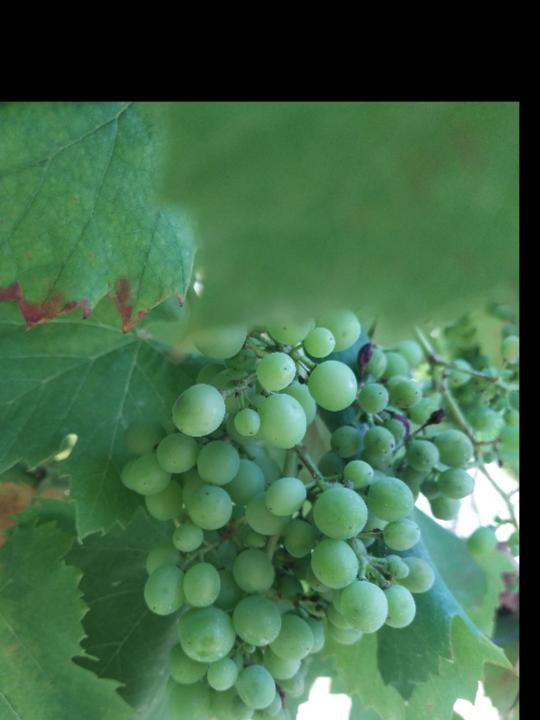grape: (119, 309, 478, 720)
